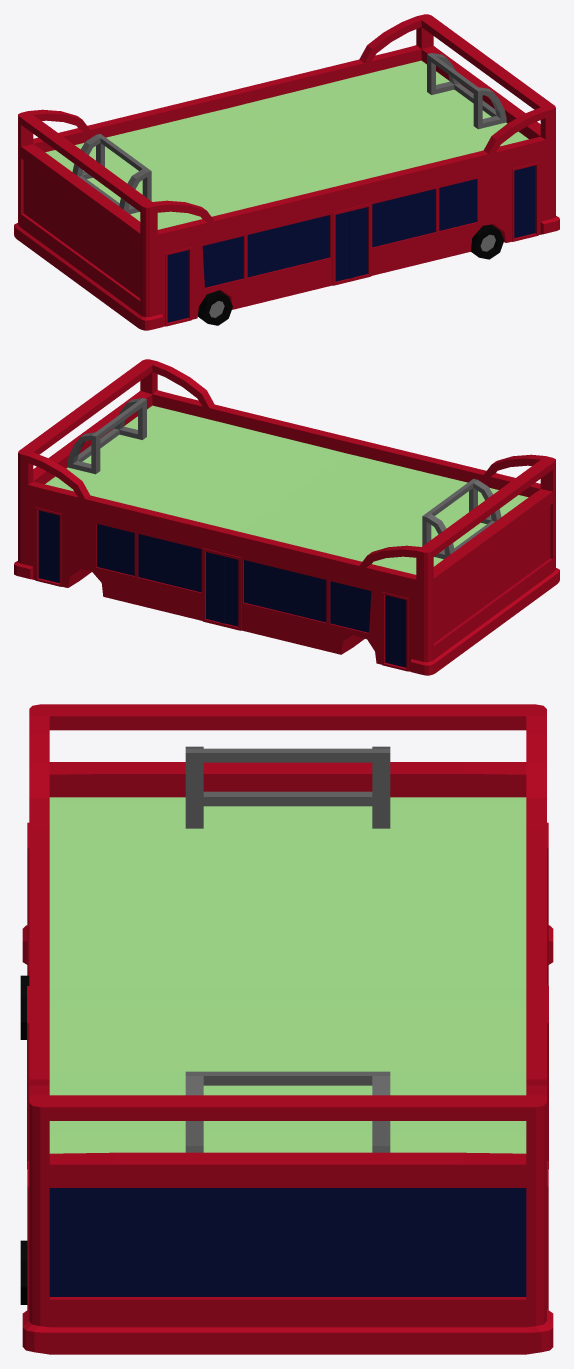
File: bus.fbx
3 renders of one model, top to bottom at view 1: azimuth 30°, elevation 25°; view 2: azimuth 150°, elevation 25°; view 3: azimuth 270°, elevation 25°, orthographic. The views are drawn at different scales.
Visible parts, largest first — view 1: BézierCurve.006 Remeshed Remeshed, Cube, Cylinder, Cube.001; view 2: BézierCurve.006 Remeshed Remeshed, Cube, Cube.001; view 3: BézierCurve.006 Remeshed Remeshed, Cube.001, Cube, Cylinder.
Part boxes in pixels (x1,y1,x2,y2): BézierCurve.006 Remeshed Remeshed: (14,14,559,330); Cube: (427,53,506,129); Cylinder: (197,224,504,325); Cube.001: (72,134,151,214); BézierCurve.006 Remeshed Remeshed: (14,359,559,675); Cube: (67,398,146,474); Cube.001: (422,479,501,559); BézierCurve.006 Remeshed Remeshed: (22,704,553,1354); Cube.001: (185,746,390,828); Cube: (185,1071,390,1152); Cylinder: (20,975,29,1304).
Bounding box in the file's own units: 1287 × 391 × 711.
